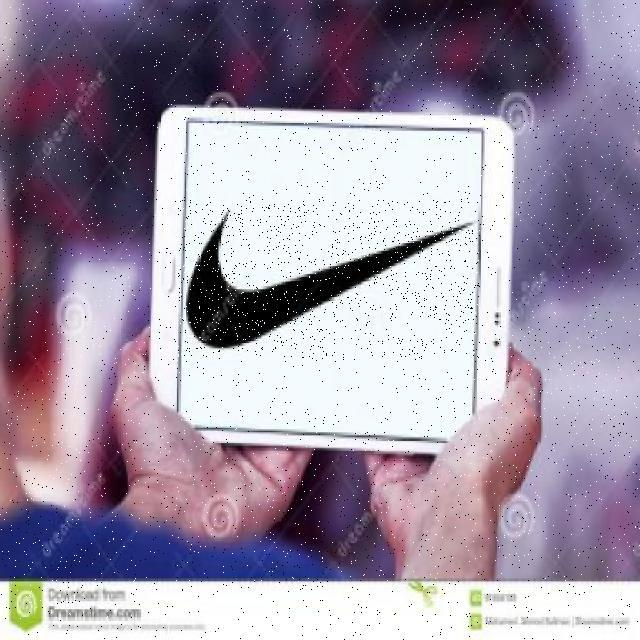Nike: (178, 200, 480, 358)
